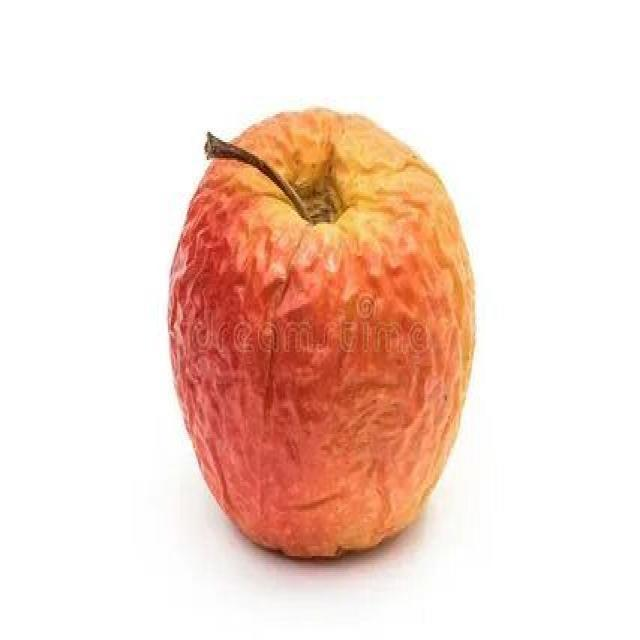Rotten: (170, 143, 473, 547)
